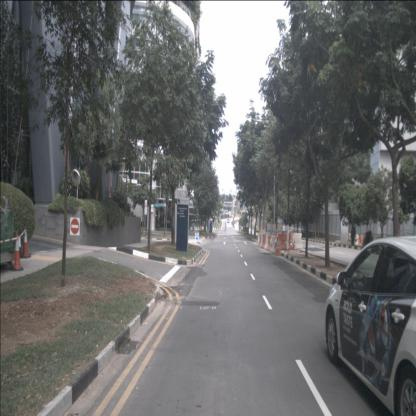barrier: (273, 235, 291, 250), (291, 232, 303, 249), (359, 235, 374, 247), (270, 234, 278, 255), (348, 233, 360, 246), (266, 233, 272, 252), (264, 233, 270, 250), (261, 233, 266, 248), (258, 233, 262, 248), (256, 232, 260, 246), (260, 233, 263, 247)
cone: (11, 234, 24, 271), (20, 226, 31, 258), (275, 236, 280, 256), (293, 237, 296, 251), (358, 236, 361, 245)
